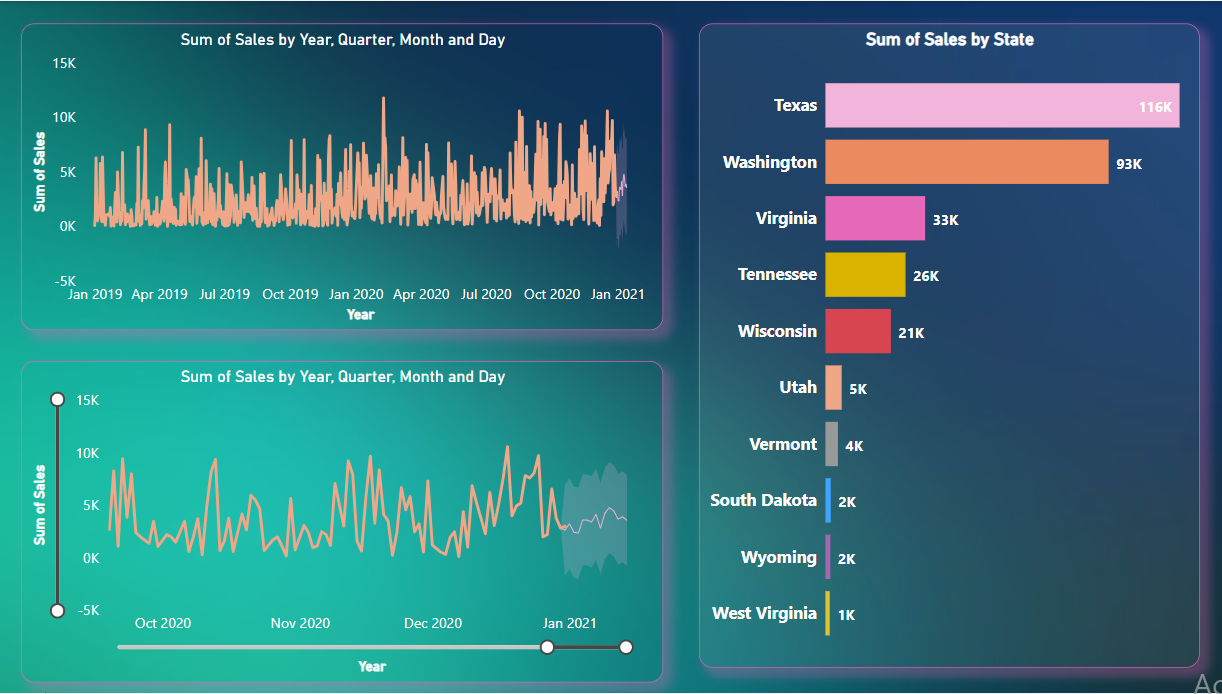

The page's visual inventory and layout, read from the dashboard file:
{"tool":"powerbi","page":{"name":"Page 2","canvas":[1280,720],"ordinal":1},"visuals":[{"type":"lineChart","fields":{"Y":["Sum(SuperStore_Sales_Dataset.Sales)"],"Category":["SuperStore_Sales_Dataset.Order Date.Variation.Date Hierarchy.Year","SuperStore_Sales_Dataset.Order Date.Variation.Date Hierarchy.Quarter","SuperStore_Sales_Dataset.Order Date.Variation.Date Hierarchy.Month","SuperStore_Sales_Dataset.Order Date.Variation.Date Hierarchy.Day"]},"box":[24.6,22.7,669,319.4],"z":0},{"type":"lineChart","fields":{"Y":["Sum(SuperStore_Sales_Dataset.Sales)"],"Category":["SuperStore_Sales_Dataset.Order Date.Variation.Date Hierarchy.Year","SuperStore_Sales_Dataset.Order Date.Variation.Date Hierarchy.Quarter","SuperStore_Sales_Dataset.Order Date.Variation.Date Hierarchy.Month","SuperStore_Sales_Dataset.Order Date.Variation.Date Hierarchy.Day"]},"box":[24.6,374.2,669,334.5],"z":1},{"type":"barChart","fields":{"Y":["Sum(SuperStore_Sales_Dataset.Sales)"],"Category":["SuperStore_Sales_Dataset.State"]},"box":[731.3,22.7,521.6,670.9],"z":2}]}

Visuals, with their boxes in screenshot pixels (x1, y1, x2, y2), scaled from the page's 1280x720 canvas onto the 1222x694 screenshot:
lineChart - Sum(SuperStore_Sales_Dataset.Sales) x SuperStore_Sales_Dataset.Order Date.Variation.Date Hierarchy.Year: 23, 22, 662, 330
lineChart - Sum(SuperStore_Sales_Dataset.Sales) x SuperStore_Sales_Dataset.Order Date.Variation.Date Hierarchy.Year: 23, 361, 662, 683
barChart - Sum(SuperStore_Sales_Dataset.Sales) x SuperStore_Sales_Dataset.State: 698, 22, 1196, 669
